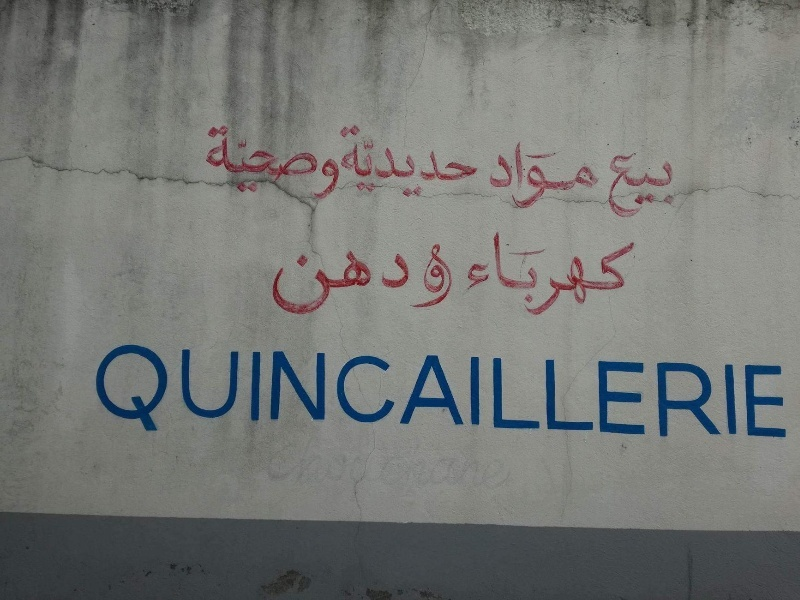text: (97, 342, 112, 442), (113, 342, 128, 442), (129, 342, 144, 442), (145, 342, 160, 442), (161, 342, 176, 442), (177, 342, 192, 442), (193, 342, 208, 442), (209, 342, 224, 442), (225, 342, 240, 442), (241, 342, 256, 442), (257, 342, 272, 442), (273, 342, 288, 442), (289, 342, 304, 442), (305, 342, 320, 442), (321, 342, 336, 442), (337, 342, 352, 442), (353, 342, 368, 442), (369, 342, 384, 442), (385, 342, 400, 442), (401, 342, 416, 442), (417, 342, 432, 442), (433, 342, 448, 442), (449, 342, 464, 442), (465, 342, 480, 442), (481, 342, 496, 442), (497, 342, 512, 442), (513, 342, 528, 442), (529, 342, 544, 442), (545, 342, 560, 442), (561, 342, 576, 442), (577, 342, 592, 442), (593, 342, 608, 442), (609, 342, 624, 442), (625, 342, 640, 442), (641, 342, 656, 442), (657, 342, 672, 442), (673, 342, 688, 442), (689, 342, 704, 442), (705, 342, 720, 442), (721, 342, 736, 442), (737, 342, 752, 442), (753, 342, 768, 442), (769, 342, 784, 442), (481, 228, 496, 317), (497, 228, 512, 317), (513, 228, 528, 317), (529, 228, 544, 317), (545, 228, 560, 317), (561, 228, 576, 317), (577, 228, 592, 317), (593, 228, 608, 317), (609, 228, 624, 317), (337, 119, 352, 204), (353, 119, 368, 204), (369, 119, 384, 204), (385, 119, 400, 204), (401, 119, 416, 204), (417, 119, 432, 204), (433, 119, 448, 204), (449, 119, 464, 204), (209, 120, 224, 201), (225, 120, 240, 201), (241, 120, 256, 201), (257, 120, 272, 201), (273, 120, 288, 201), (289, 120, 304, 201), (305, 120, 320, 201), (321, 120, 336, 201), (497, 134, 512, 213), (513, 134, 528, 213), (529, 134, 544, 213), (545, 134, 560, 213), (561, 134, 576, 213), (577, 134, 592, 213), (273, 249, 288, 325), (289, 249, 304, 325), (305, 249, 320, 325), (321, 249, 336, 325), (337, 249, 352, 325), (353, 249, 368, 325), (369, 249, 384, 325), (385, 249, 400, 325), (465, 119, 478, 204), (609, 151, 624, 222), (625, 151, 640, 222), (641, 151, 656, 222), (657, 151, 672, 222), (417, 242, 432, 313), (433, 242, 448, 313), (625, 228, 635, 317), (486, 134, 496, 213), (593, 134, 603, 213), (401, 249, 410, 325), (785, 342, 790, 442), (673, 151, 678, 222), (411, 242, 416, 313), (449, 242, 454, 313), (337, 120, 341, 201), (205, 120, 208, 201), (478, 228, 480, 317), (95, 342, 96, 442), (271, 249, 272, 325), (607, 151, 608, 222)
